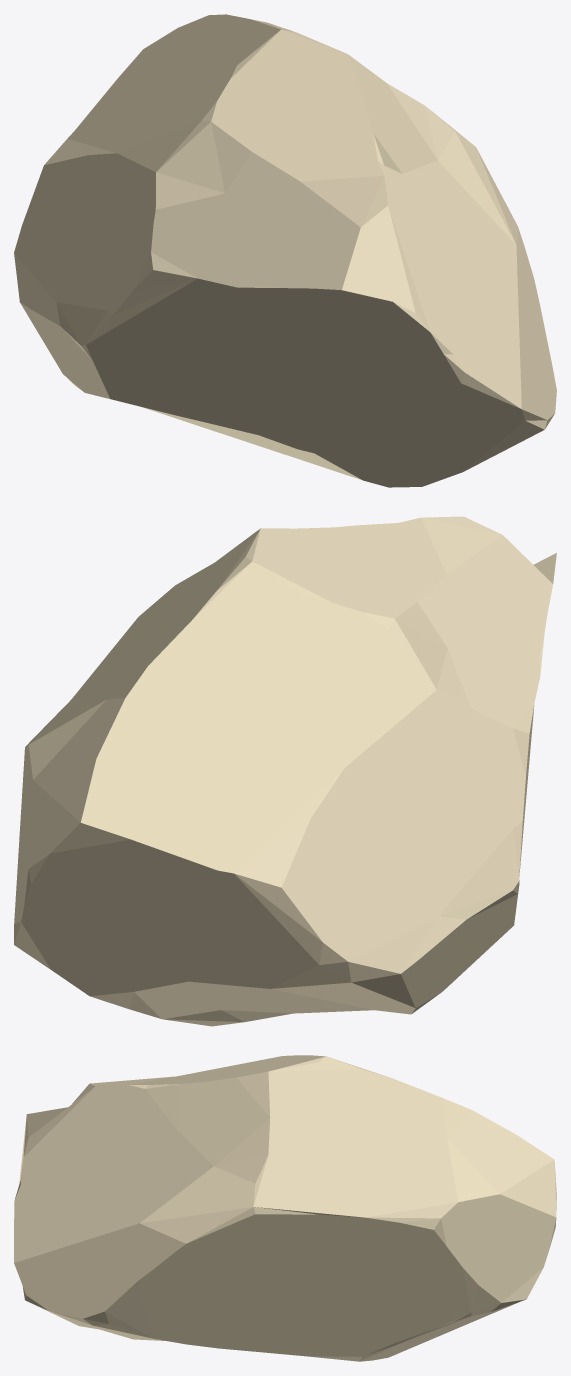
Rendered from Rock_01.fbx.
The picture shows the model from 3 angles, top to bottom: view 1: azimuth 30°, elevation 25°; view 2: azimuth 150°, elevation 25°; view 3: azimuth 270°, elevation 25°; orthographic projection. The views are drawn at different scales.
Visible parts, largest first — view 1: Rock_01; view 2: Rock_01; view 3: Rock_01.
Boxes of the visible parts, box(x1,y1,x2,y2) form: Rock_01: box(14, 14, 556, 487); Rock_01: box(14, 516, 556, 1026); Rock_01: box(14, 1055, 556, 1361).
Bounding box in the file's own units: 148 × 148 × 243.
